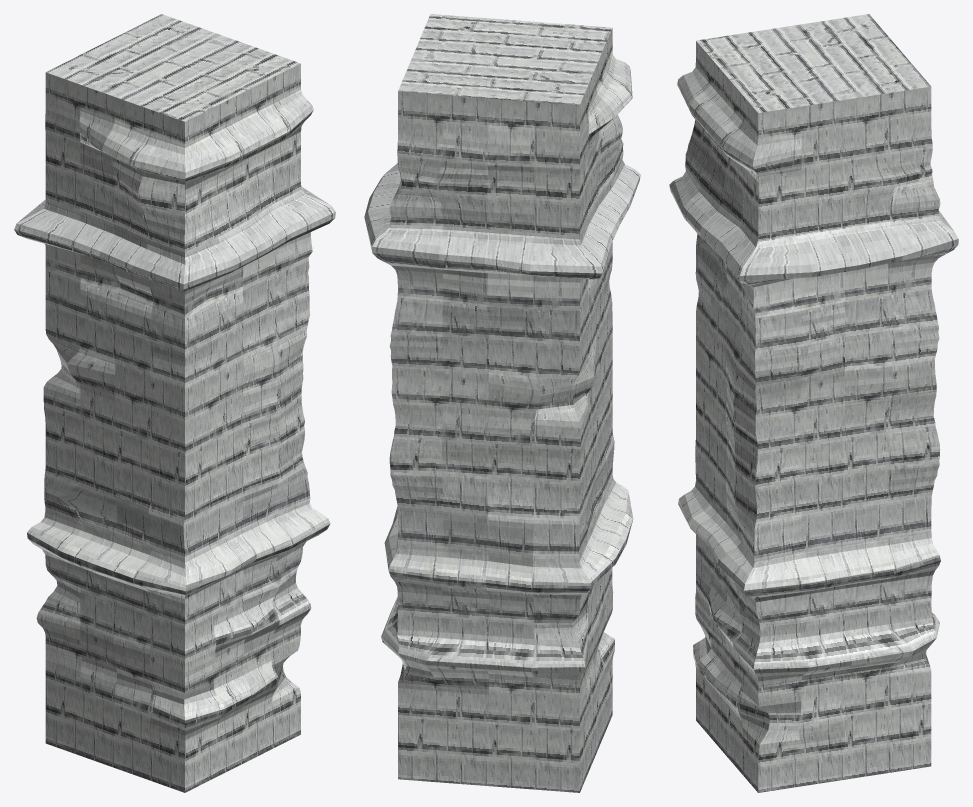
File: A_Way_Out.glb
3 renders of one model, left to right at view 1: azimuth 30°, elevation 25°; view 2: azimuth 150°, elevation 25°; view 3: azimuth 270°, elevation 25°, orthographic. The views are drawn at different scales.
Visible parts, largest first — view 1: Pillar.001; view 2: Pillar.001; view 3: Pillar.001.
Boxes of the visible parts, x1,y1,x2,y2 form: Pillar.001: [14, 14, 335, 792]; Pillar.001: [364, 14, 640, 792]; Pillar.001: [669, 14, 958, 792].
Bounding box in the file's own units: 2.83 × 7.15 × 2.76.
Materials: 1 (1 with a texture image).
